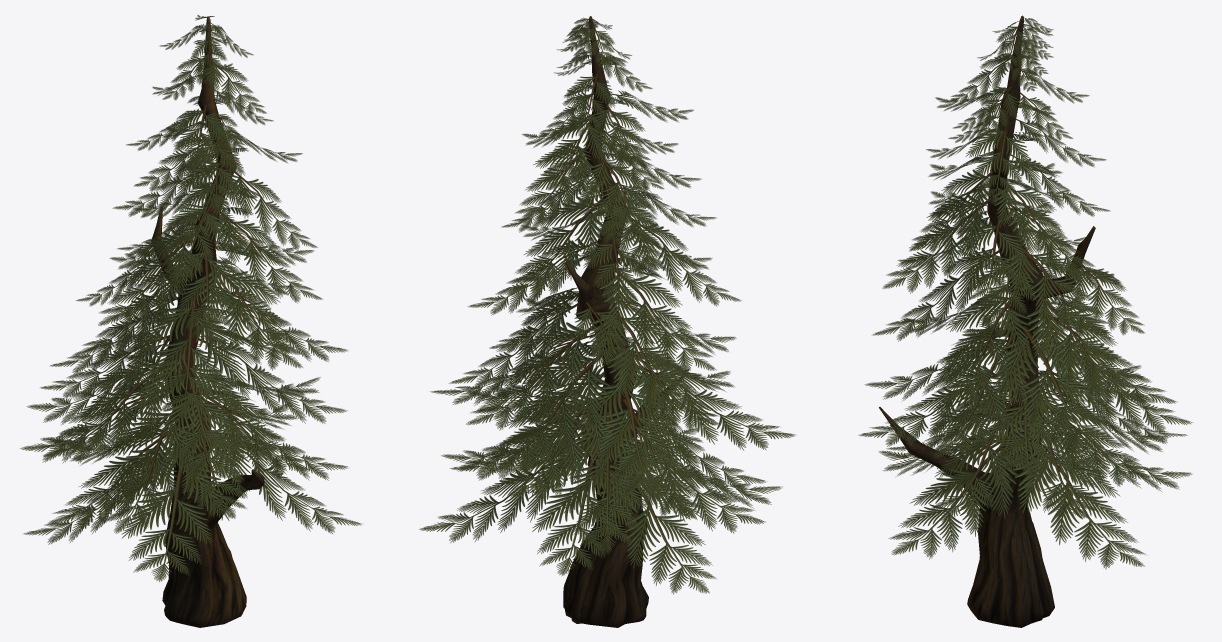
Rendered from stylized_pine.glb.
3 renders of one model, left to right at view 1: azimuth 30°, elevation 25°; view 2: azimuth 150°, elevation 25°; view 3: azimuth 270°, elevation 25°, orthographic.
Visible parts, largest first — view 1: Tree; view 2: Tree; view 3: Tree.
Part boxes in pixels (x1,y1,x2,y2): Tree: (20,15,362,627); Tree: (419,16,795,627); Tree: (858,15,1192,627).
Bounding box in the file's own units: 5.42 × 9.24 × 5.09.
1 material, 1 textured.
